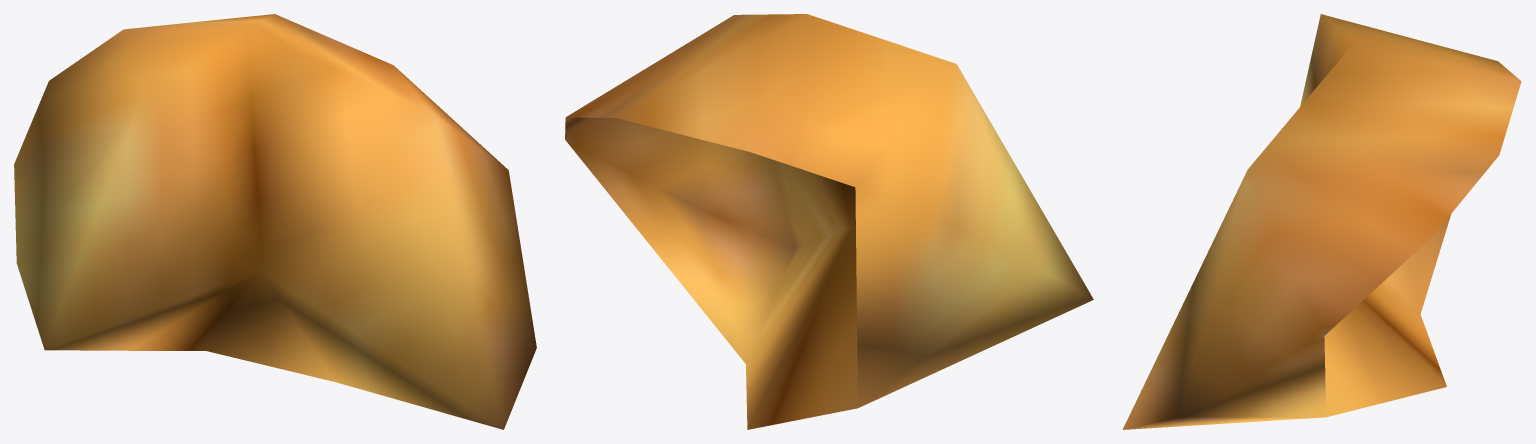
File: fg_fortune_cookie_out.dae
The picture shows the model from 3 angles, left to right: view 1: azimuth 30°, elevation 25°; view 2: azimuth 150°, elevation 25°; view 3: azimuth 270°, elevation 25°; orthographic projection. The views are drawn at different scales.
Visible parts, largest first — view 1: fg_fortune_cookie_out; view 2: fg_fortune_cookie_out; view 3: fg_fortune_cookie_out.
Part boxes in pixels (x1=…): fg_fortune_cookie_out: x1=14, y1=14, x2=536, y2=429; fg_fortune_cookie_out: x1=565, y1=14, x2=1093, y2=429; fg_fortune_cookie_out: x1=1122, y1=14, x2=1521, y2=429.
Size of the model in its own units: 13.45 by 9.6 by 10.19.
Materials: 1 (1 with a texture image).
